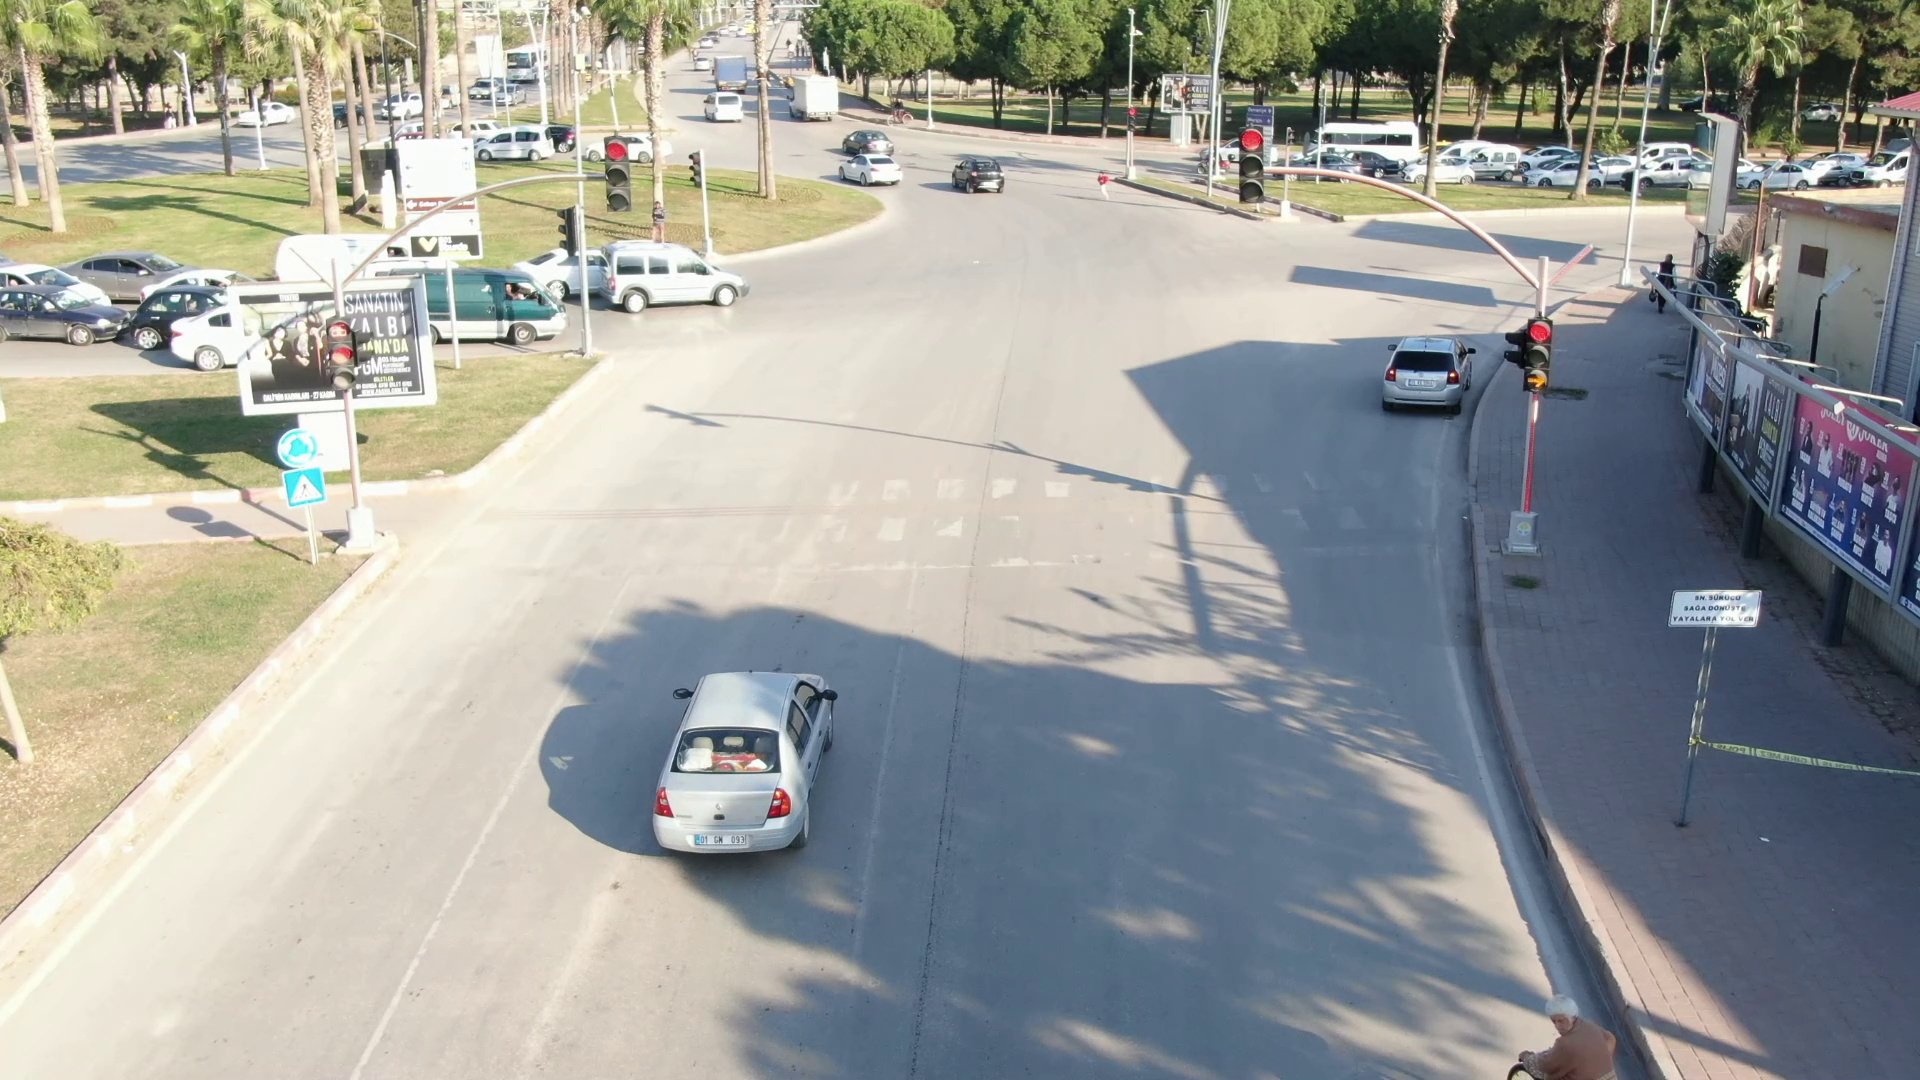car: (619, 617, 906, 900), (1357, 302, 1497, 433), (589, 228, 756, 330), (825, 143, 907, 201), (940, 149, 1014, 203)
person: (1090, 167, 1117, 210)
